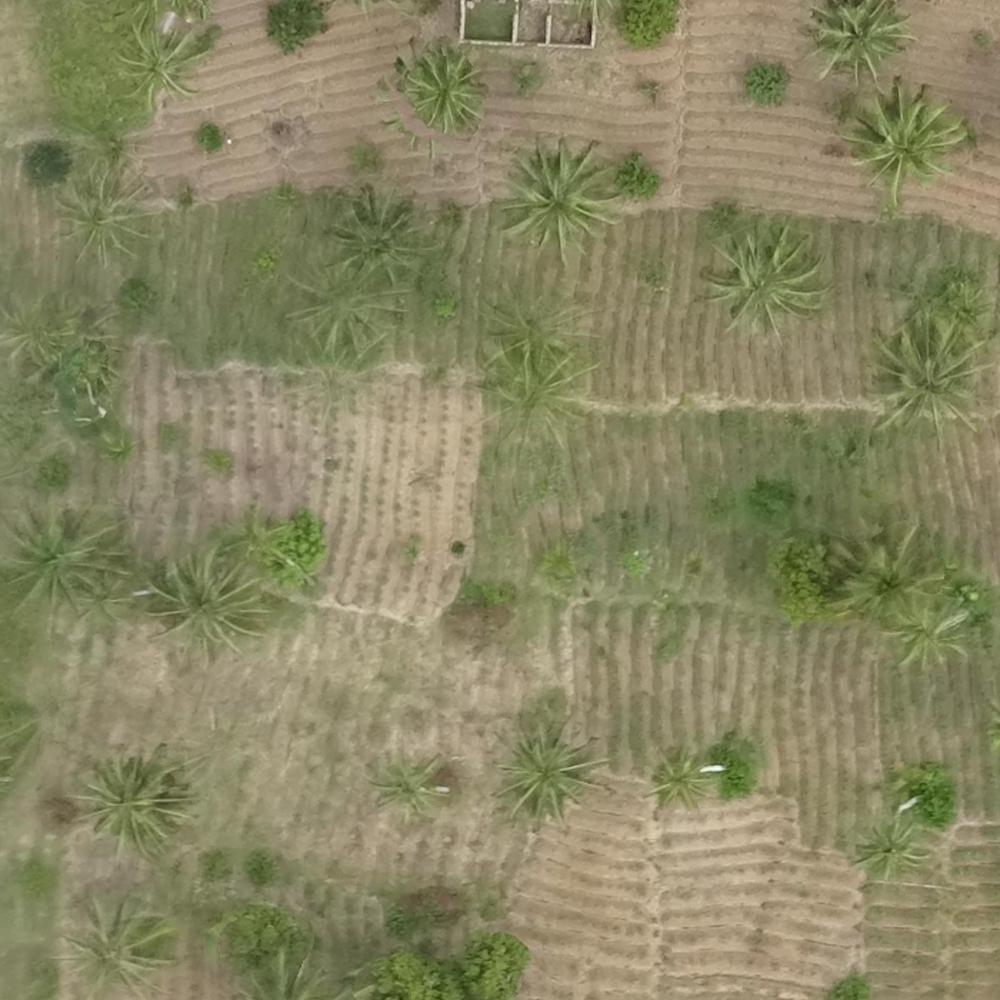Palm: (498, 142, 614, 256), (871, 313, 977, 436), (2, 498, 112, 614), (851, 82, 958, 191), (144, 548, 252, 652), (81, 749, 181, 857), (710, 225, 814, 325), (826, 522, 933, 616), (501, 723, 598, 821), (55, 163, 151, 260), (59, 897, 157, 988), (325, 188, 421, 278), (808, 1, 908, 85), (120, 22, 207, 109), (403, 48, 485, 127), (890, 596, 970, 667), (855, 818, 928, 885), (646, 746, 715, 811), (374, 755, 441, 814)
